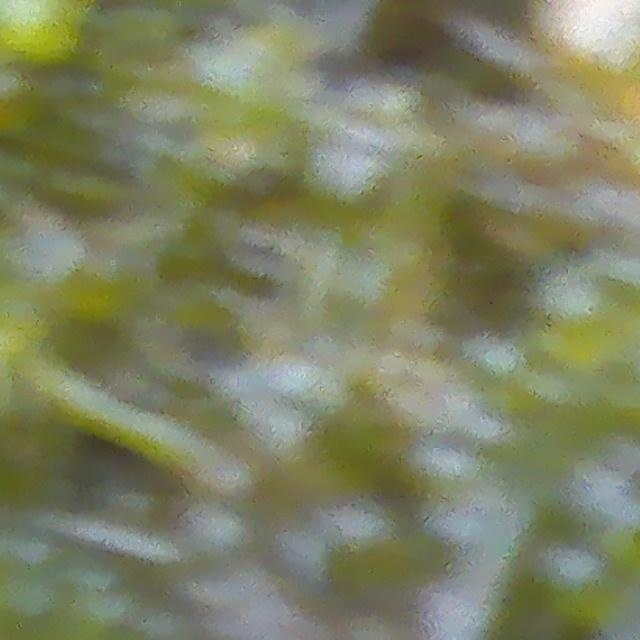SeaGrape: (187, 501, 251, 561), (539, 541, 604, 598)
